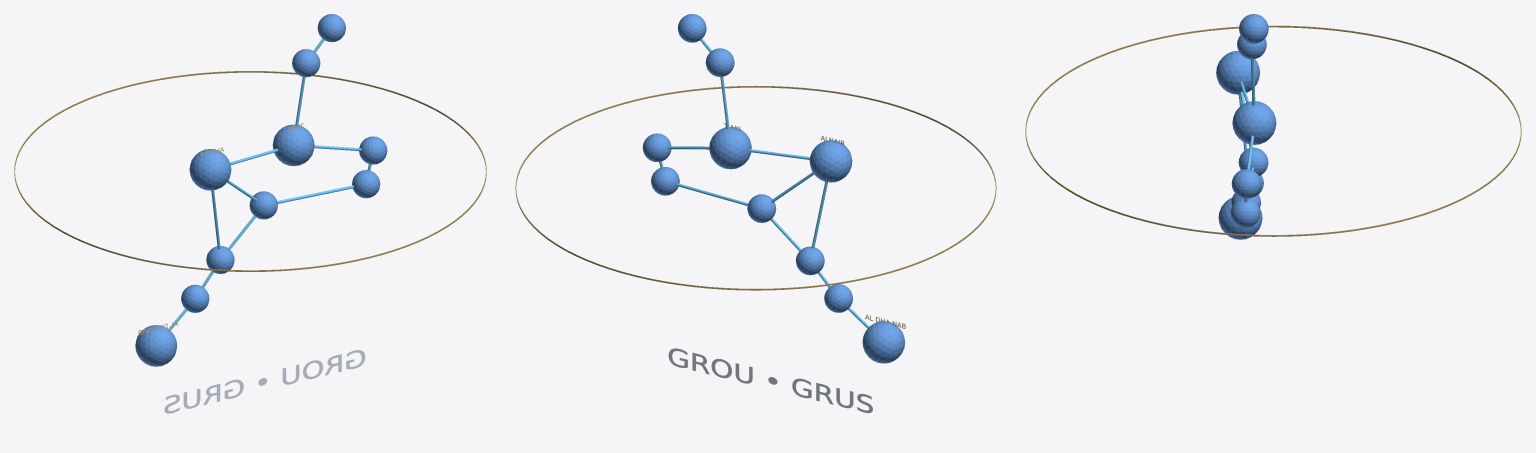
Rendered from grus_constelacao_ra.glb.
3 renders of one model, left to right at view 1: azimuth 30°, elevation 25°; view 2: azimuth 150°, elevation 25°; view 3: azimuth 270°, elevation 25°, orthographic. The views are drawn at different scales.
Visible parts, largest first — view 1: arco_celeste, titulo, estrela_3_0, estrela_0_0, estrela_7_0, estrela_8_0, estrela_1_0, estrela_6_0, estrela_9_0, estrela_5_0, estrela_4_0, estrela_2_0; view 2: arco_celeste, titulo, estrela_3_0, estrela_0_0, estrela_7_0, estrela_8_0, estrela_9_0, estrela_1_0, estrela_2_0, estrela_5_0, estrela_6_0, estrela_4_0; view 3: arco_celeste, estrela_7_0, estrela_3_0, estrela_0_0, estrela_6_0, estrela_9_0, estrela_5_0, estrela_4_0.
Boxes of the visible parts, x1,y1,x2,y2 form: arco_celeste: (14,71,486,271); titulo: (164,350,365,413); estrela_3_0: (189,149,231,190); estrela_0_0: (135,325,177,366); estrela_7_0: (272,124,314,166); estrela_8_0: (292,49,320,77); estrela_1_0: (181,284,209,312); estrela_6_0: (359,136,387,164); estrela_9_0: (317,14,345,42); estrela_5_0: (352,170,380,198); estrela_4_0: (249,191,277,219); estrela_2_0: (206,246,234,273); arco_celeste: (515,85,996,290); titulo: (668,348,872,412); estrela_3_0: (809,140,852,182); estrela_0_0: (862,321,904,363); estrela_7_0: (709,127,751,169); estrela_8_0: (705,48,734,76); estrela_9_0: (677,14,706,42); estrela_1_0: (824,284,852,312); estrela_2_0: (796,246,824,275); estrela_5_0: (651,167,679,195); estrela_6_0: (642,133,671,161); estrela_4_0: (747,194,776,222); arco_celeste: (1025,25,1521,236); estrela_7_0: (1232,101,1276,144); estrela_3_0: (1216,51,1259,94); estrela_0_0: (1218,198,1262,239); estrela_6_0: (1231,169,1261,198); estrela_9_0: (1239,14,1268,43); estrela_5_0: (1230,198,1260,227); estrela_4_0: (1238,147,1268,175).
Bounding box in the file's own units: 5.4 × 4.62 × 5.4.
Materials: 12 (4 with a texture image).
